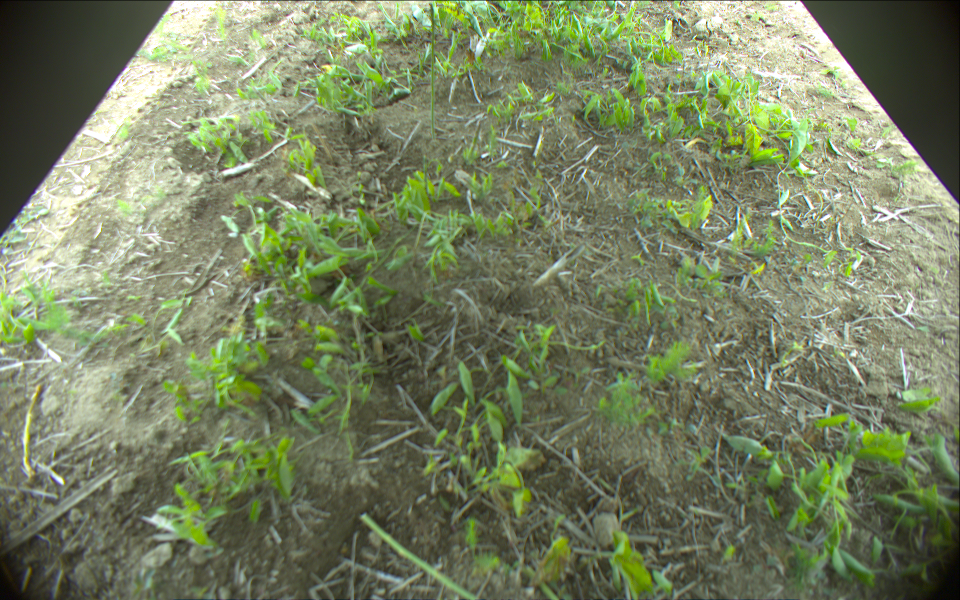aspa: (360, 516, 479, 598), (23, 384, 47, 482), (427, 4, 437, 134), (468, 116, 481, 161)
